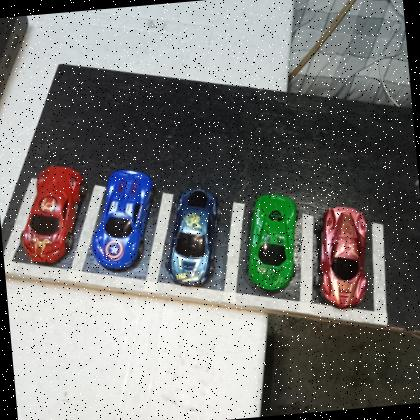Car: (13, 161, 94, 266), (86, 166, 162, 272), (158, 183, 227, 288), (308, 202, 374, 311), (239, 190, 305, 294)
